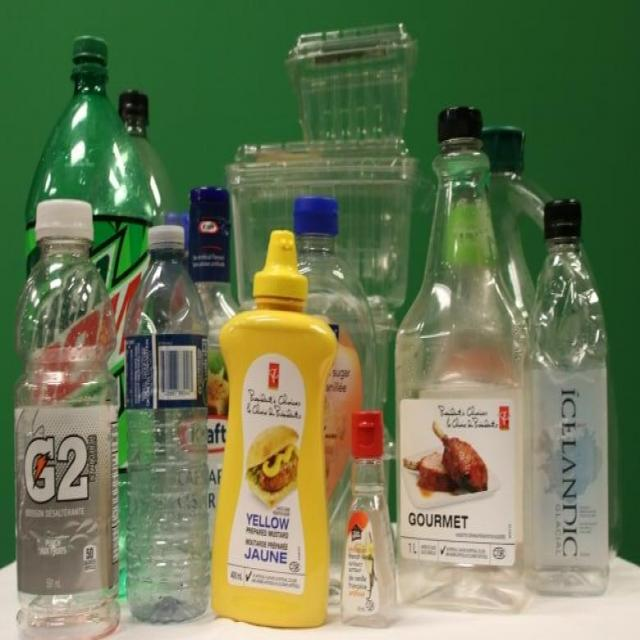plastic_bottle: (391, 89, 545, 630), (206, 226, 349, 640), (14, 203, 125, 640), (531, 186, 622, 609)
